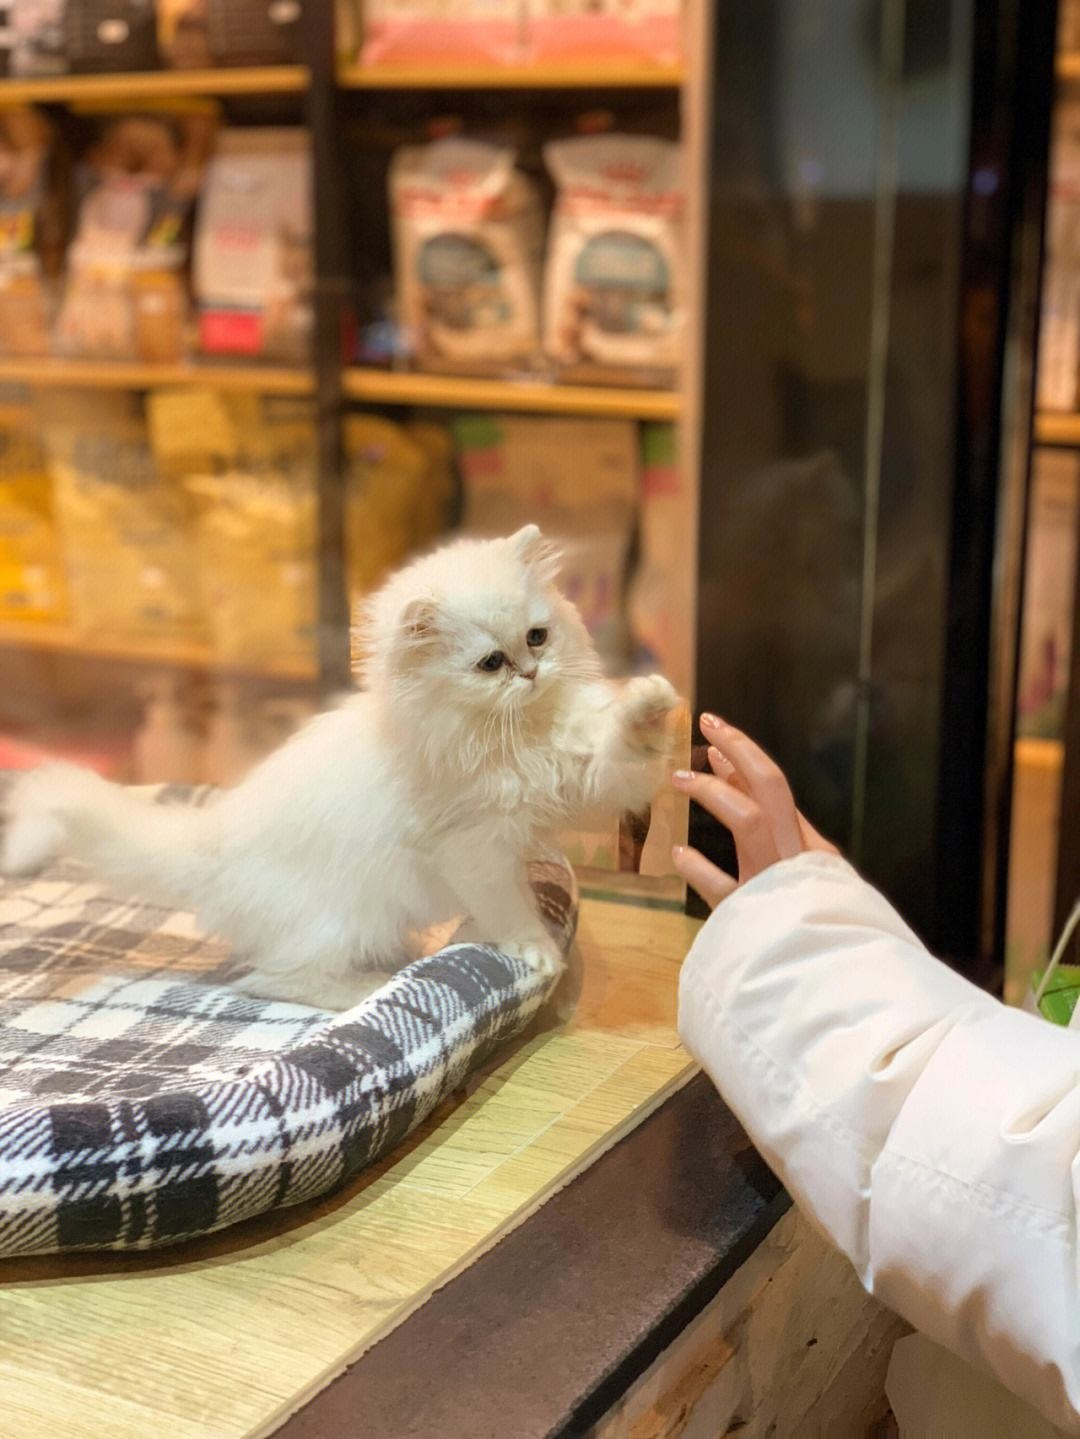cat: (1, 526, 680, 1010)
